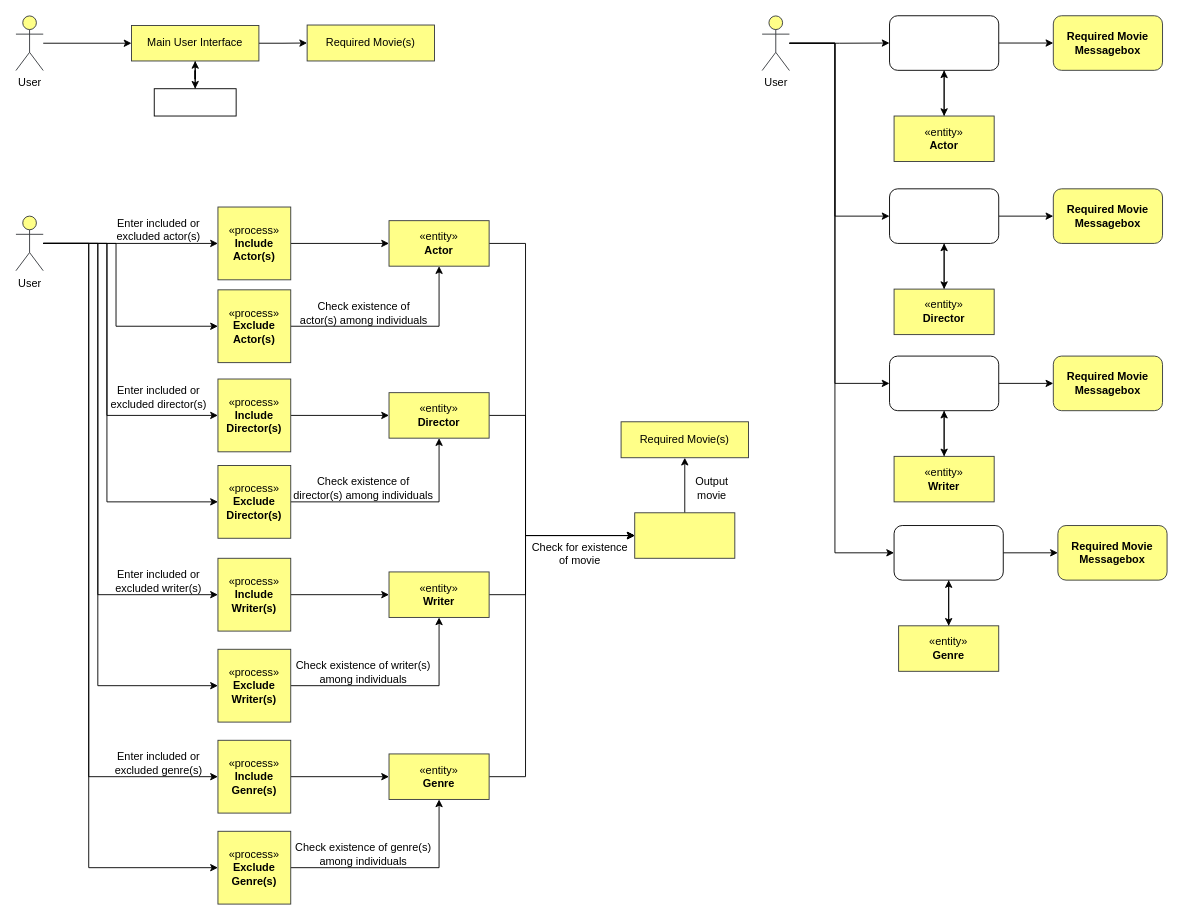
Some shapes in this 1183 by 921 pixel diagram are drawn without their labels. Here are the shapes that lost their labels. From the top down, the centre of each, then its label:
At (944,42): "Query Actors".
At (194,102): "SPARQL Query".
At (944,215): "Query Directors".
At (944,383): "Query Writers".
At (684,535): "«entity» Movie".
At (948,552): "Query Genres".
